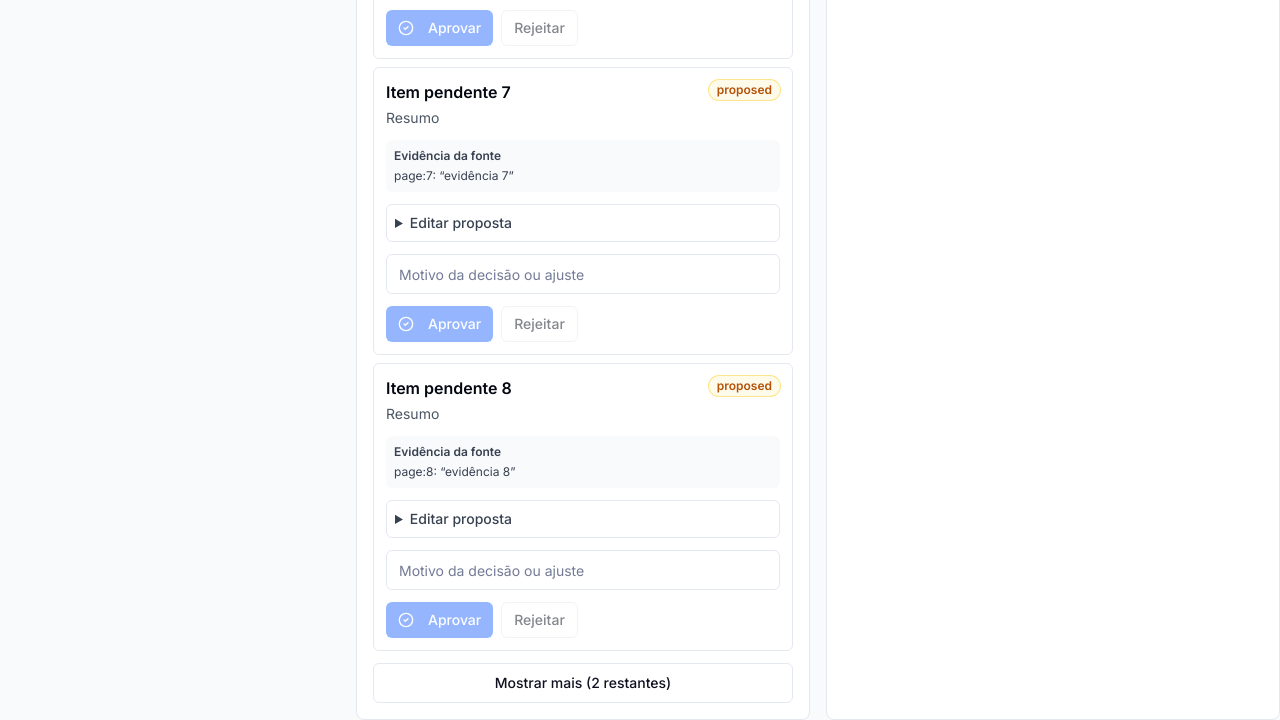
Test case: StrategyPacksPanel upload › permite revisar todos os itens pendentes sem limitar a lista aos oito primeiros
(page scrolled)
Check: the text "Item pendente 9" is not shown
Click the button "Mostrar mais (2 restantes)".
click(583, 683)  # box [373, 663, 793, 703]
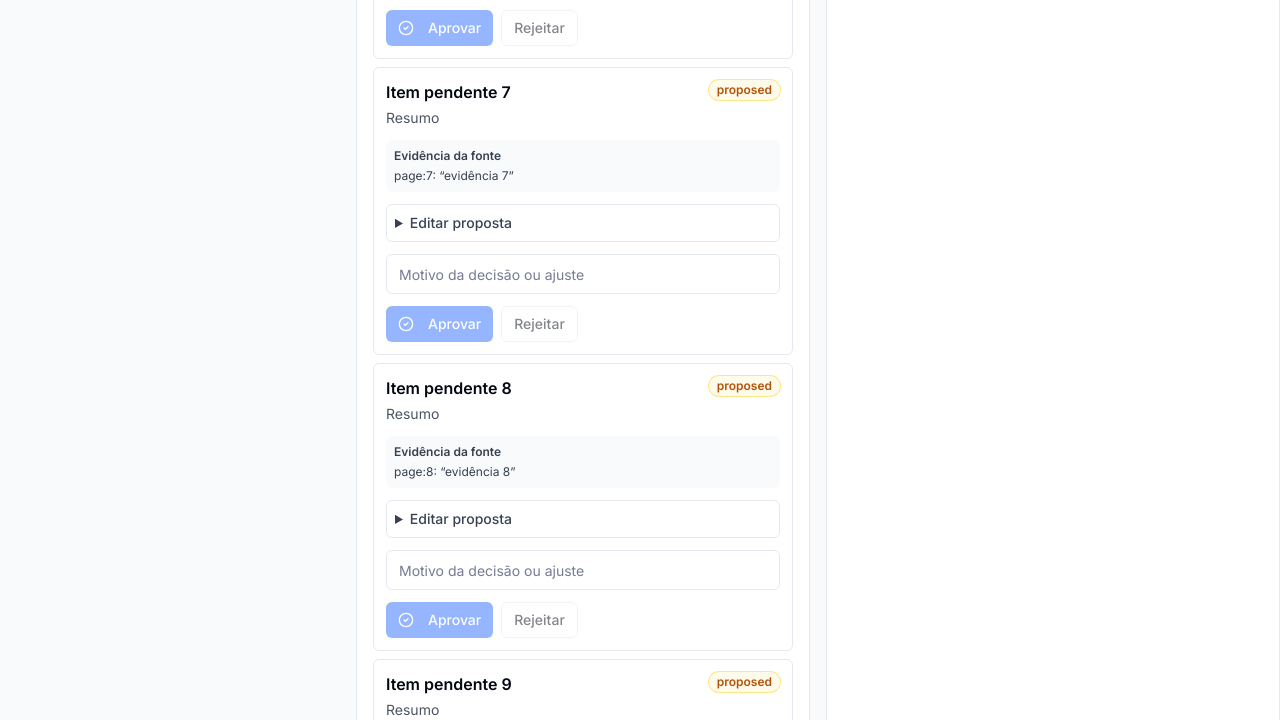
Check: the text "Item pendente 9" is shown, box [386, 672, 512, 696]
